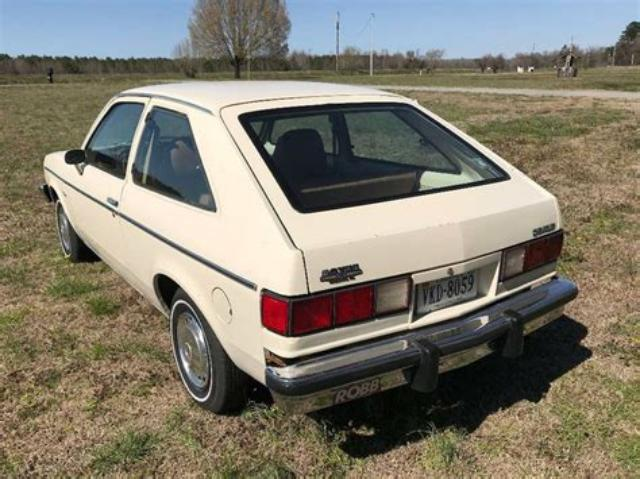chevette-1983: (41, 81, 578, 412)
